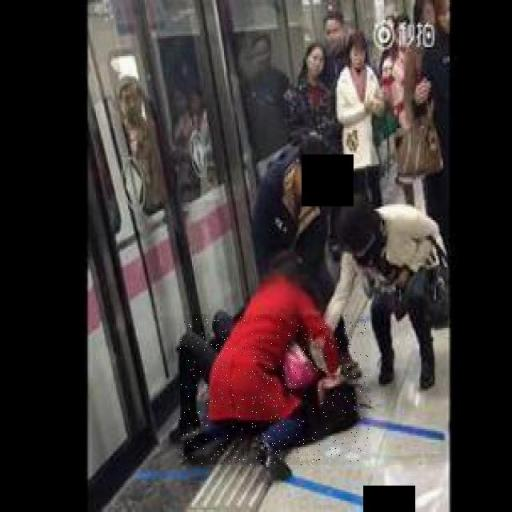Fall: (180, 314, 370, 465)
